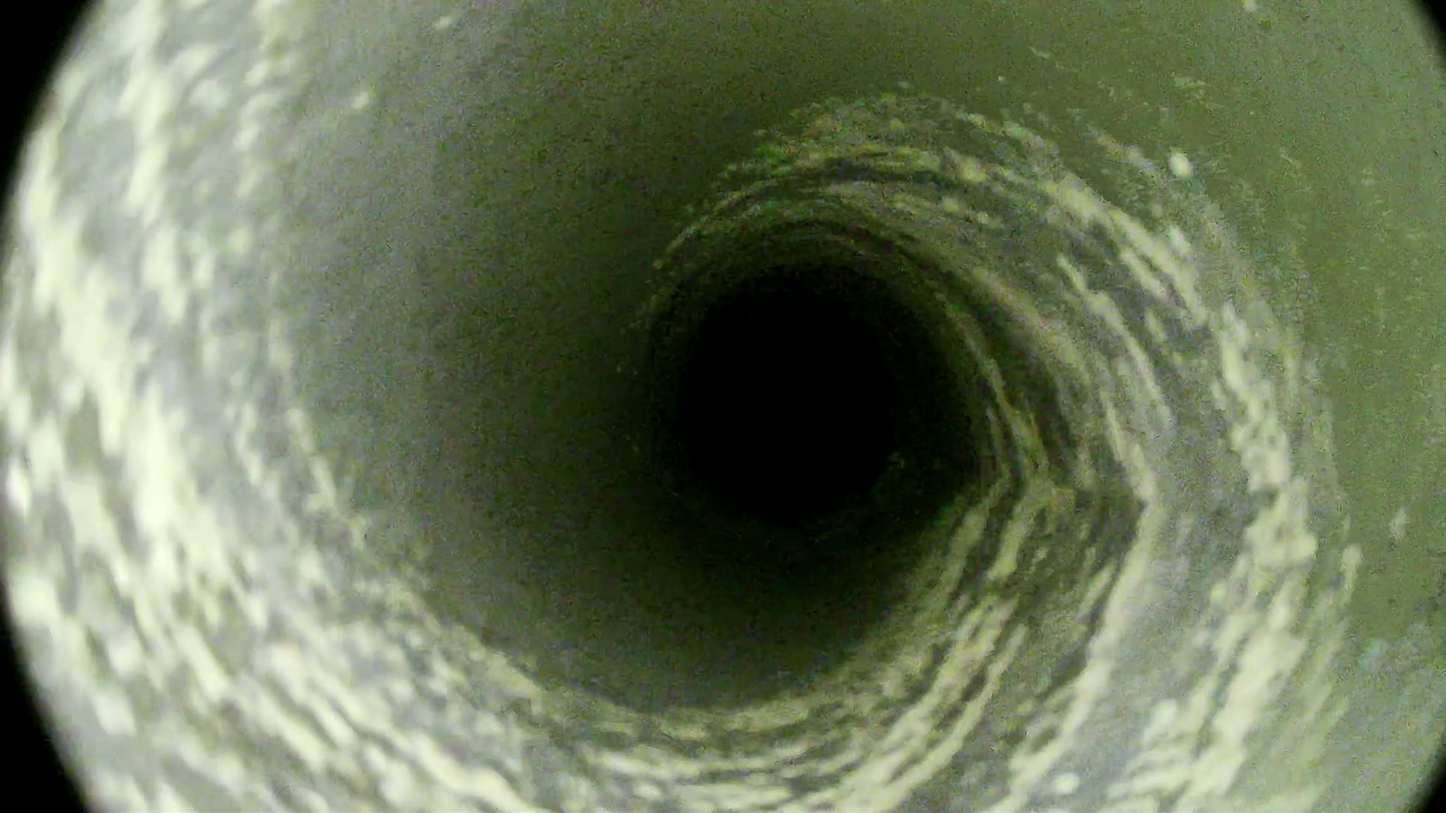hole: (680, 303, 892, 519)
